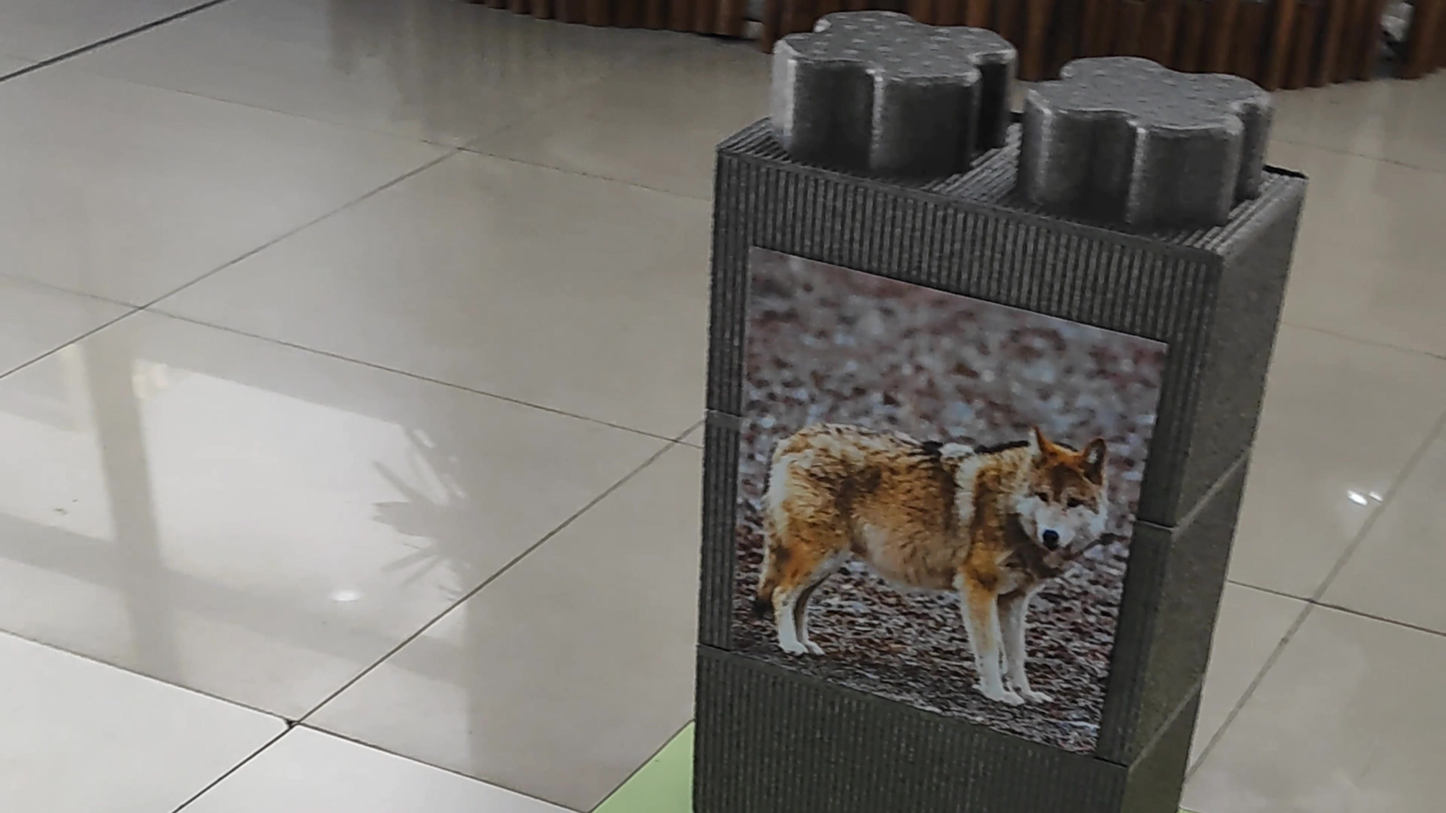wolf: (741, 357, 1109, 722)
